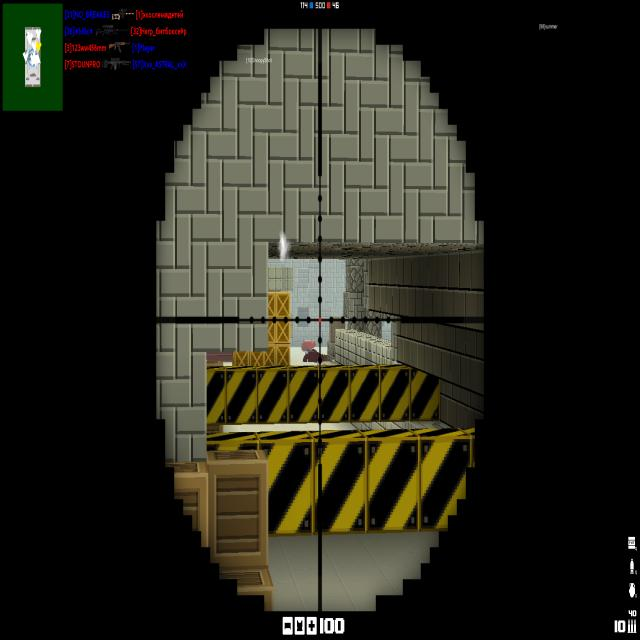player: (302, 349, 327, 363), (301, 339, 316, 353)
